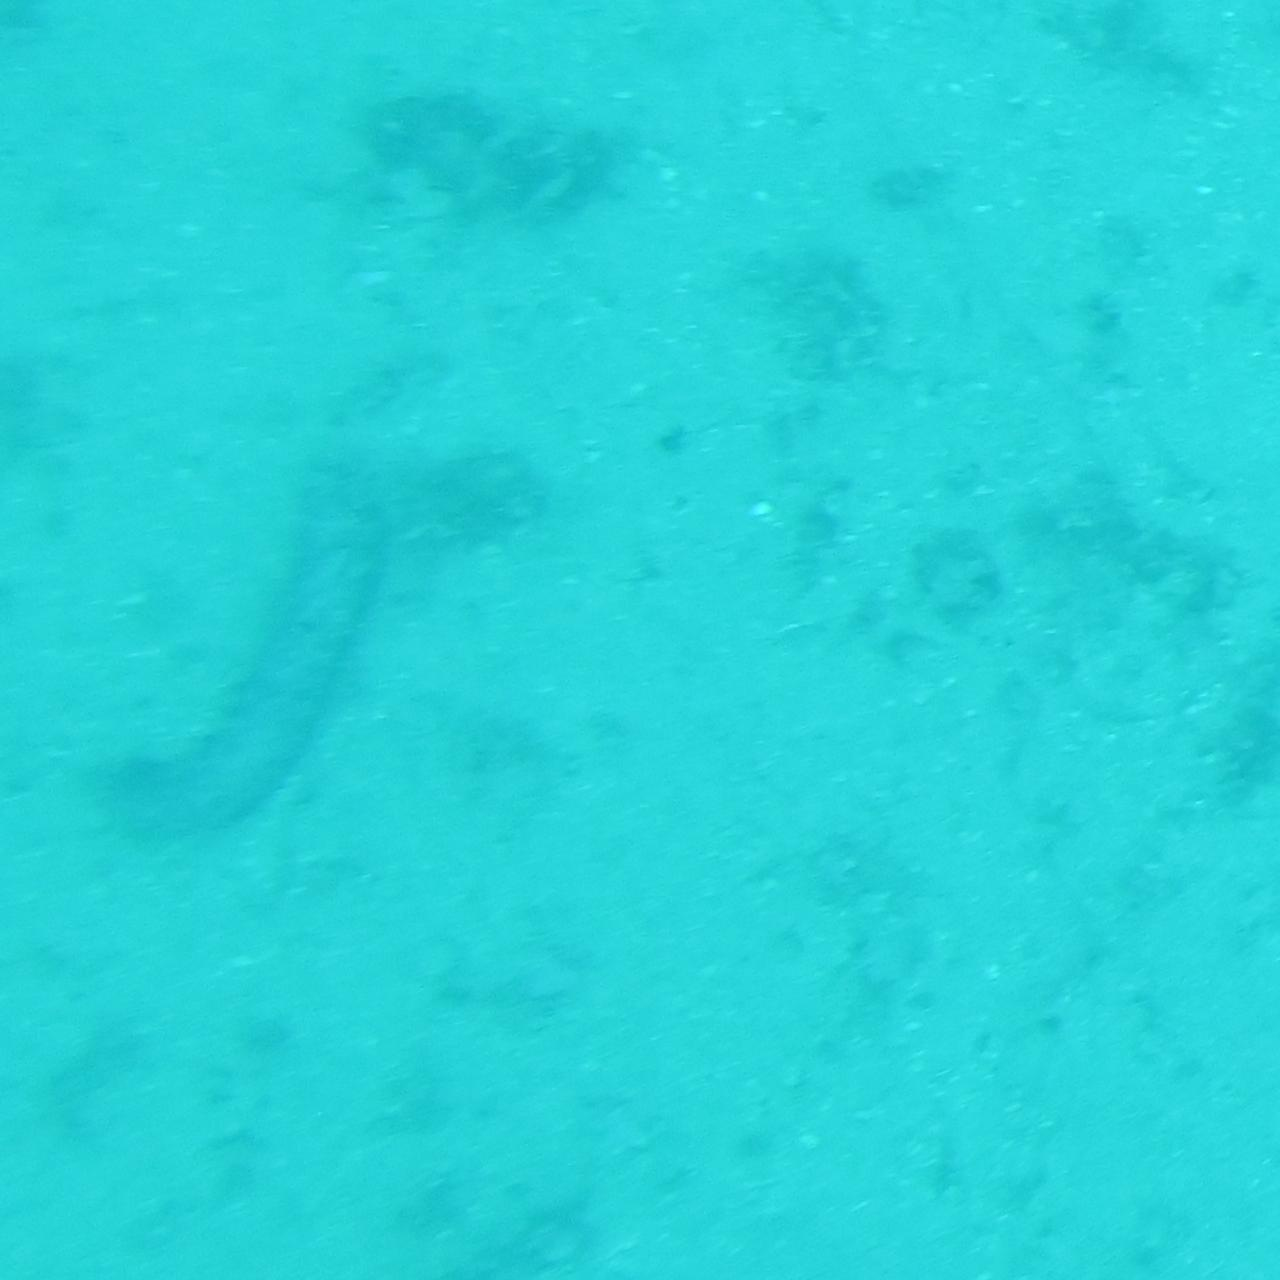Holothuria tubulosa: (77, 435, 413, 845)
